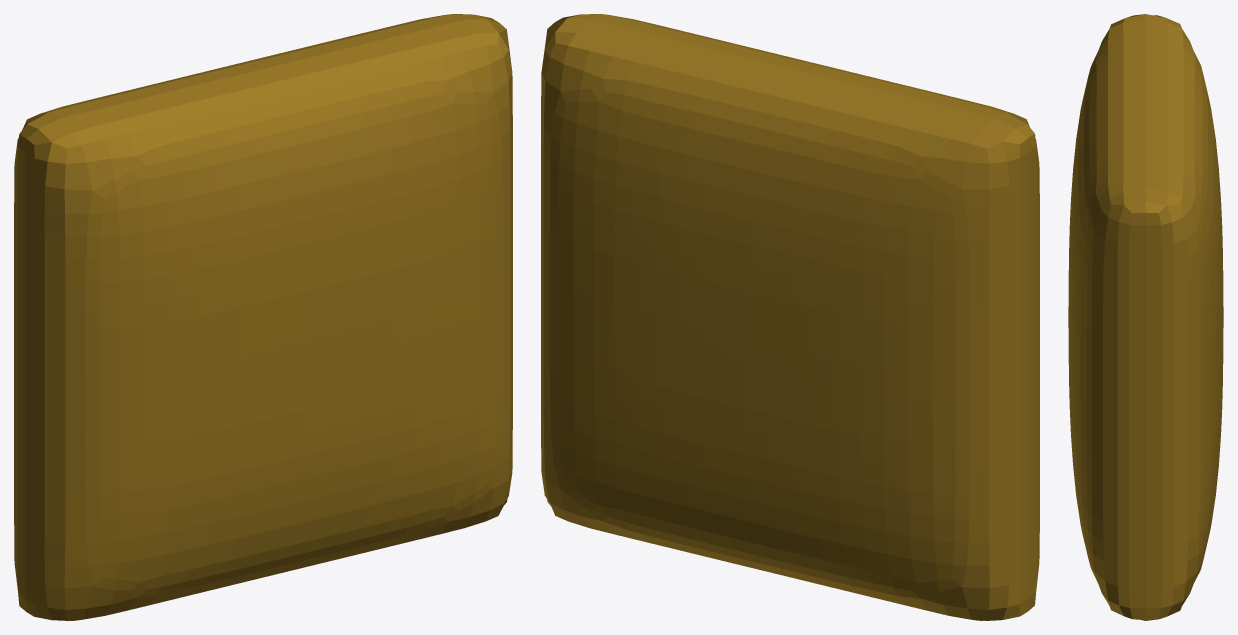
File: ATL-CUS-std.glb
3 renders of one model, left to right at view 1: azimuth 30°, elevation 25°; view 2: azimuth 150°, elevation 25°; view 3: azimuth 270°, elevation 25°, orthographic. The views are drawn at different scales.
Visible parts, largest first — view 1: pillow:pbr; view 2: pillow:pbr; view 3: pillow:pbr.
Part boxes in pixels (x1,y1,x2,y2): pillow:pbr: (14,14,512,620); pillow:pbr: (541,14,1039,620); pillow:pbr: (1068,14,1223,620).
Size of the model in its own units: 0.4423 by 0.4423 by 0.1453.
